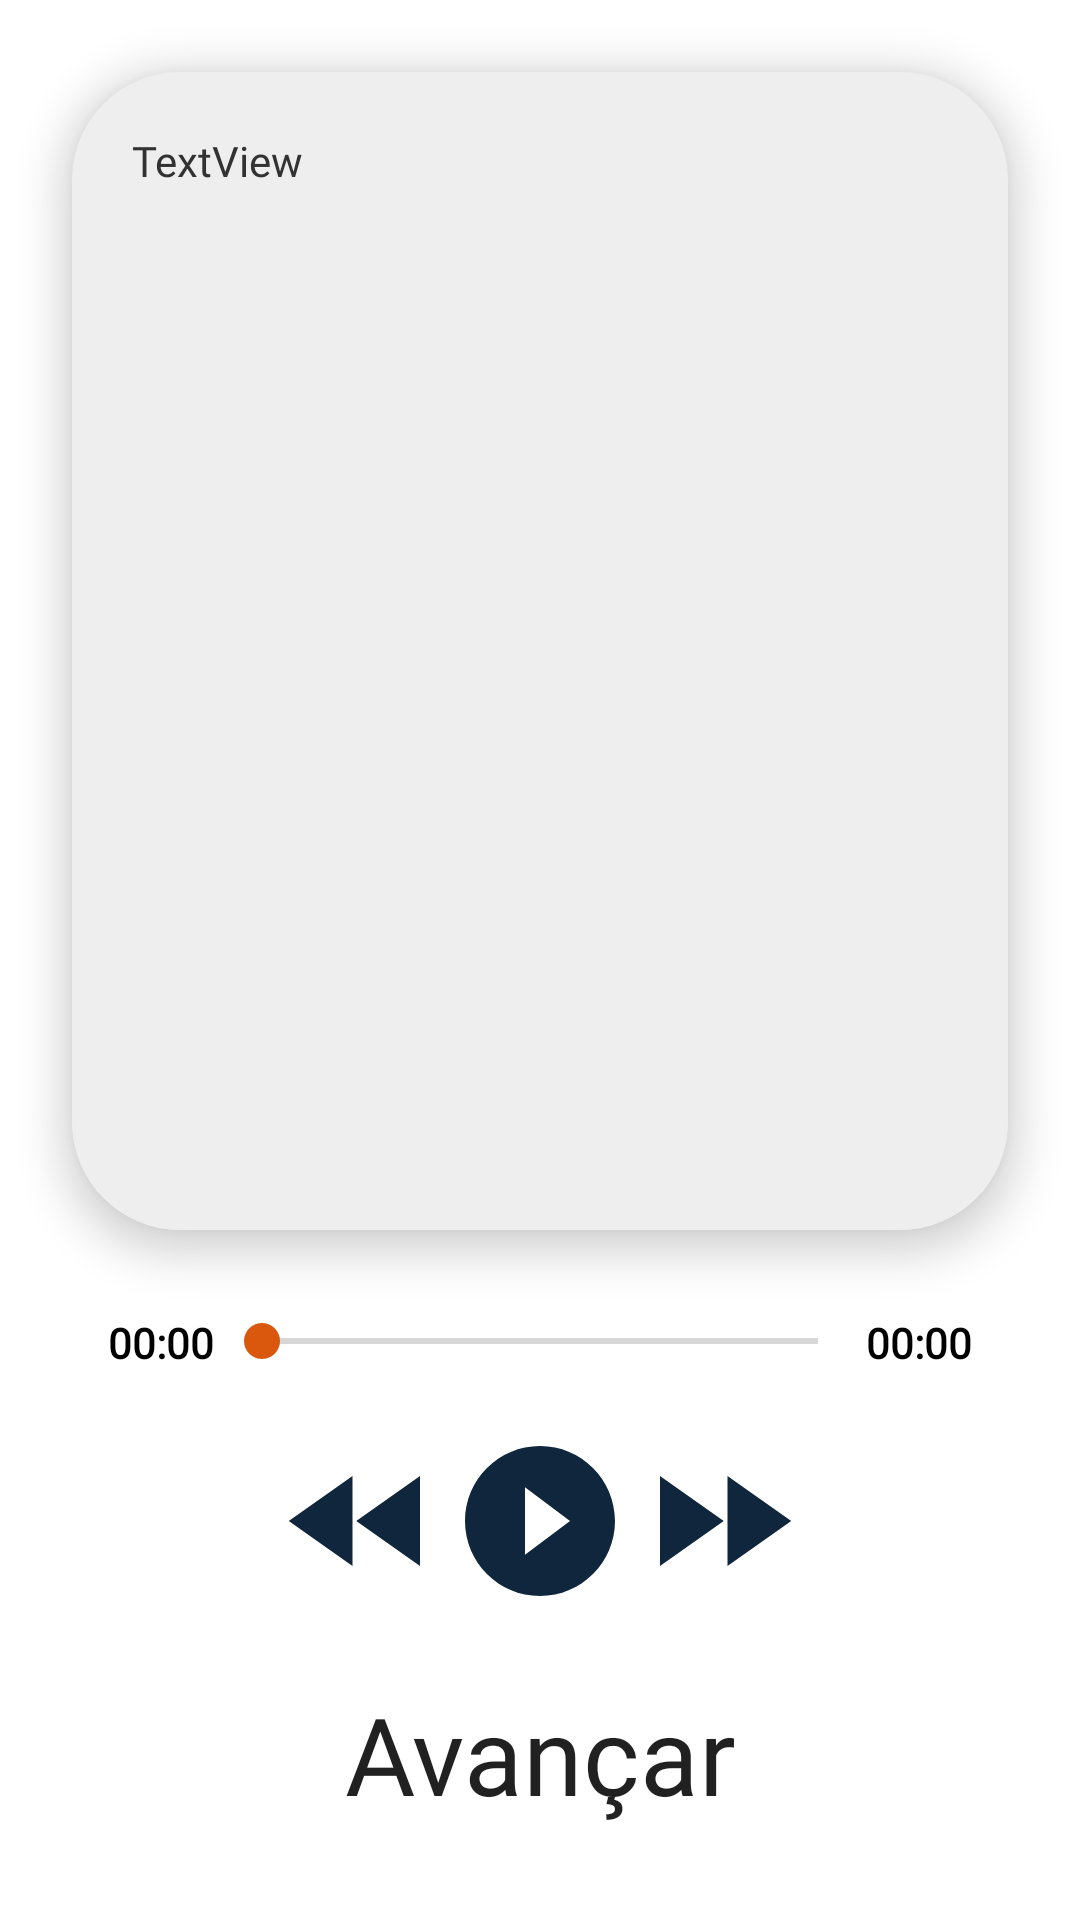

Icon click points for this 1080*1920 phone screenshot, format [x,y]:
fast forward: [725,1521]
fast rewind: [354,1521]
play: [540,1521]
